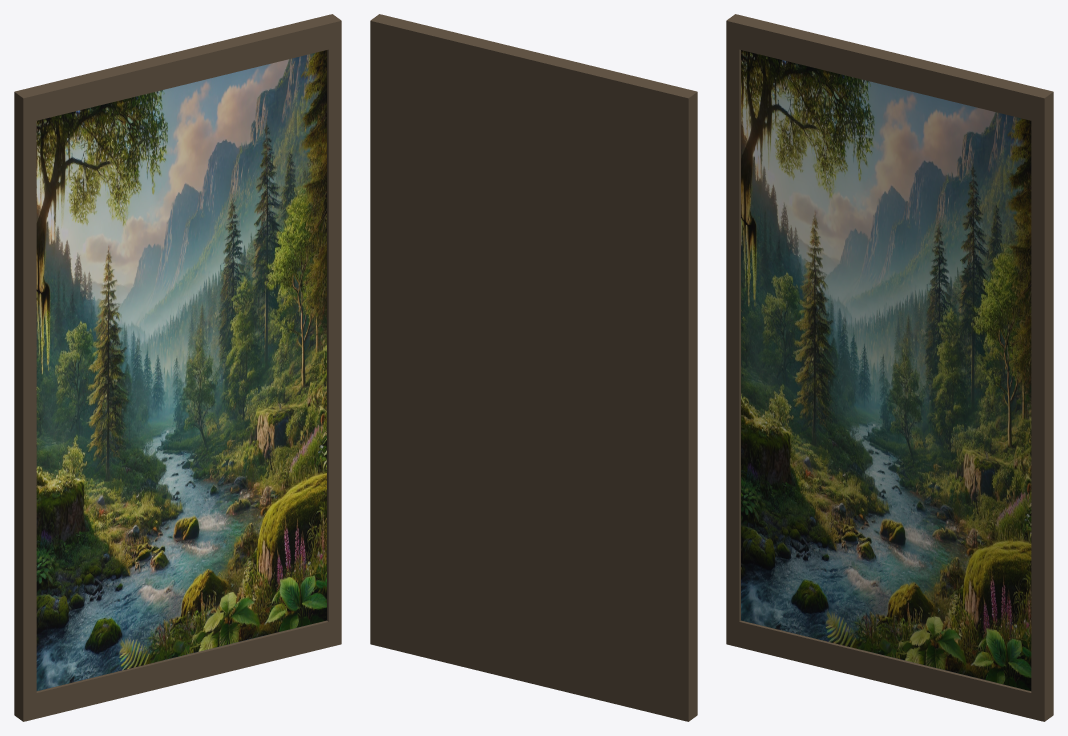
The model's file is picture4.fbx.
The picture shows the model from 3 angles, left to right: view 1: azimuth 30°, elevation 25°; view 2: azimuth 150°, elevation 25°; view 3: azimuth 330°, elevation 25°; orthographic projection.
Parts seen in each view (by area): view 1: Painting; view 2: Painting; view 3: Painting.
Part boxes in pixels (box(x1,y1,x2,y2)): Painting: box(14, 14, 341, 721); Painting: box(370, 14, 697, 721); Painting: box(726, 14, 1053, 721).
Size of the model in its own units: 222 by 416 by 11.11.
